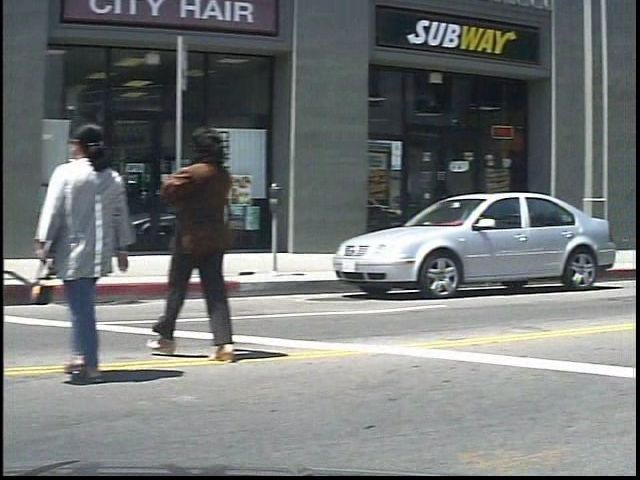person: (49, 117, 155, 386), (158, 120, 255, 361)
